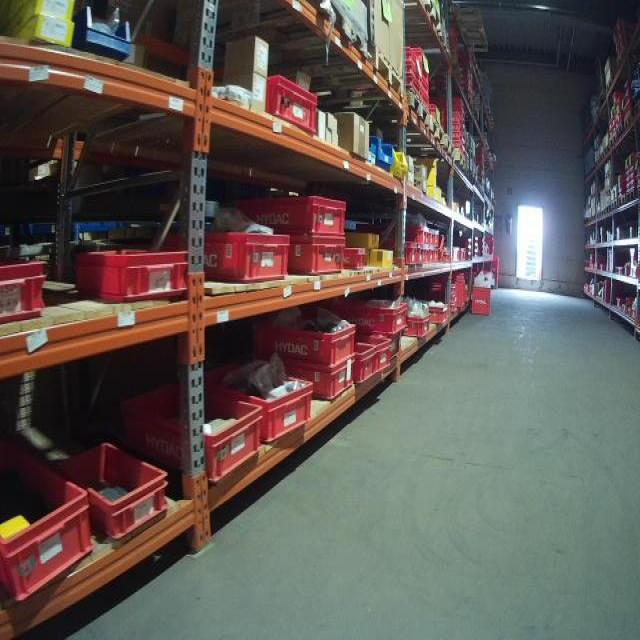pallet: (209, 7, 378, 67), (245, 50, 409, 105), (363, 91, 434, 134), (381, 117, 446, 151), (402, 134, 458, 164), (396, 1, 443, 27), (428, 150, 468, 177), (623, 188, 638, 209), (608, 199, 618, 217), (617, 193, 626, 211)
small_load_carrier: (120, 379, 262, 487), (2, 444, 94, 609), (51, 440, 174, 537), (198, 363, 317, 446), (73, 241, 197, 311), (163, 231, 294, 290), (251, 318, 356, 361), (237, 196, 351, 234), (260, 76, 322, 135), (277, 361, 357, 405), (2, 256, 50, 327), (328, 301, 412, 336), (285, 237, 351, 278), (360, 336, 393, 380), (349, 342, 376, 389), (402, 306, 434, 344), (377, 223, 428, 244), (377, 241, 418, 267), (474, 278, 494, 319), (342, 245, 368, 275), (454, 269, 471, 311), (428, 278, 458, 293), (429, 301, 447, 326), (415, 248, 424, 273), (442, 293, 462, 302), (449, 305, 461, 314)
